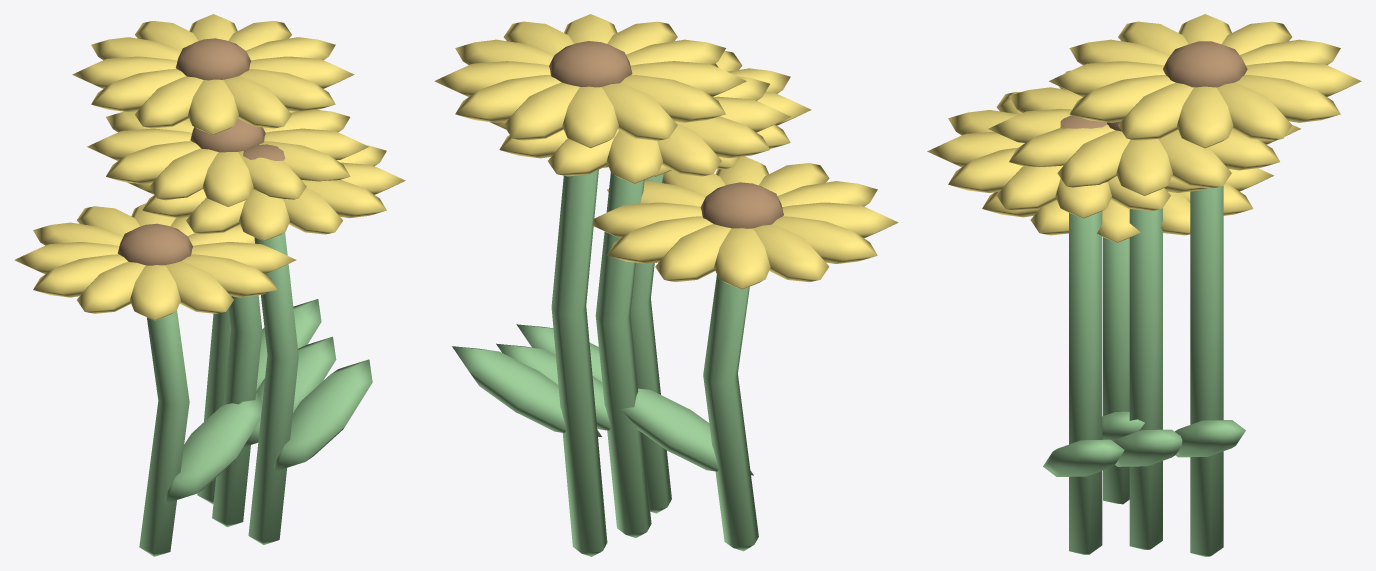
The model's file is flowers_girassol_cluster.glb.
The picture shows the model from 3 angles, left to right: view 1: azimuth 30°, elevation 25°; view 2: azimuth 150°, elevation 25°; view 3: azimuth 270°, elevation 25°; orthographic projection. The views are drawn at different scales.
Parts seen in each view (by area): view 1: flowers_girassol_cluster; view 2: flowers_girassol_cluster; view 3: flowers_girassol_cluster.
Boxes of the visible parts, x1,y1,x2,y2 form: flowers_girassol_cluster: (14, 14, 405, 556); flowers_girassol_cluster: (434, 14, 898, 556); flowers_girassol_cluster: (927, 14, 1361, 556).
Bounding box in the file's own units: 0.3579 × 0.46 × 0.3551.
